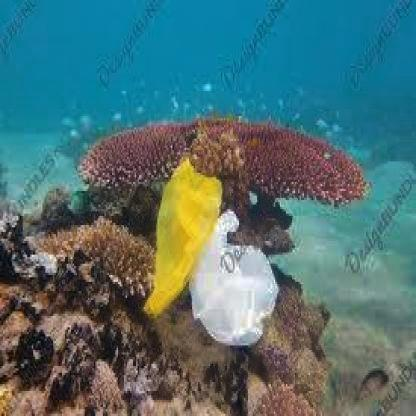pbag: (145, 155, 221, 332), (189, 207, 283, 348)
